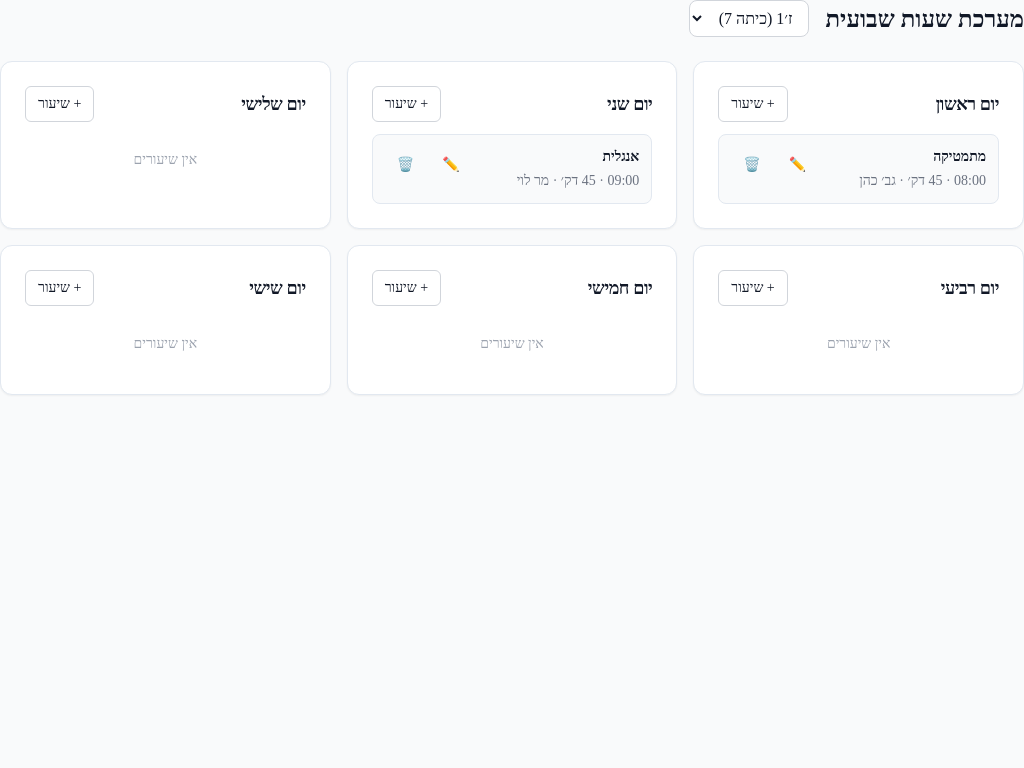
ScheduleBuilder › add template › can cancel the form
Click the button with aria-label "הוסף שיעור ליום ראשון": (753, 104) [718,86,788,122]
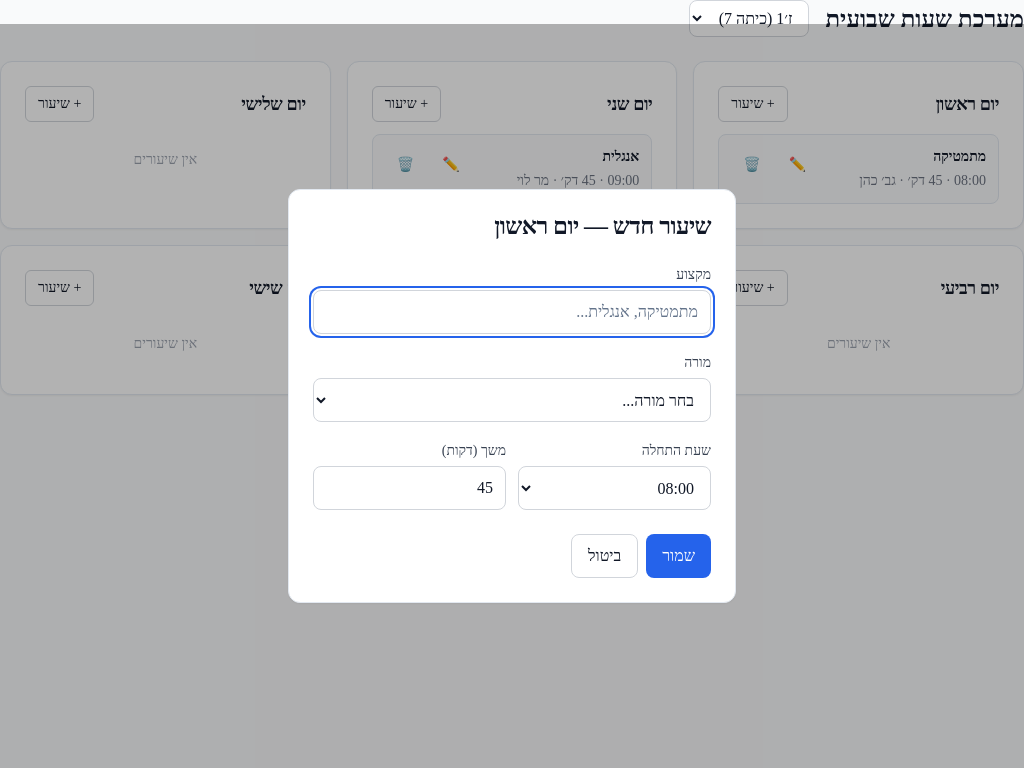
Now the heading "שיעור חדש — יום ראשון" is shown, box [494,213,711,239]
Click the button "ביטול": (605, 556) [571,534,638,578]
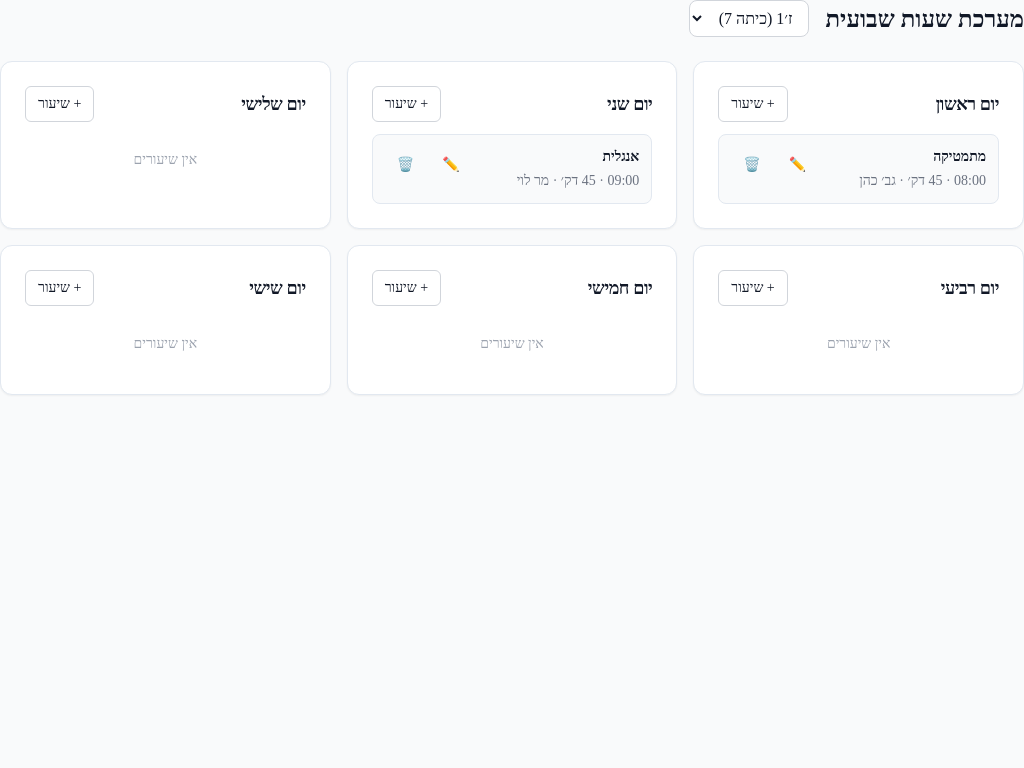
Now the heading "שיעור חדש" is gone
